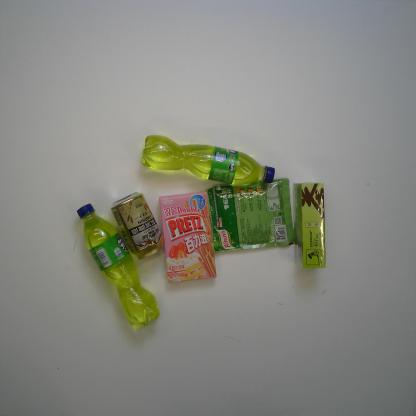Alcohol: (110, 190, 165, 261)
Dessert: (159, 190, 217, 283)
Drink: (76, 203, 160, 330), (141, 134, 275, 186)
Instant Drink: (292, 182, 326, 270)
Seasoner: (206, 178, 296, 254)
